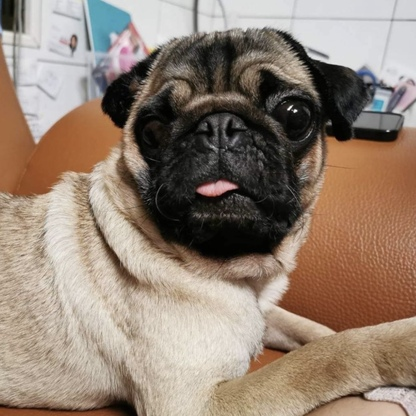Pug: (1, 20, 374, 416)
